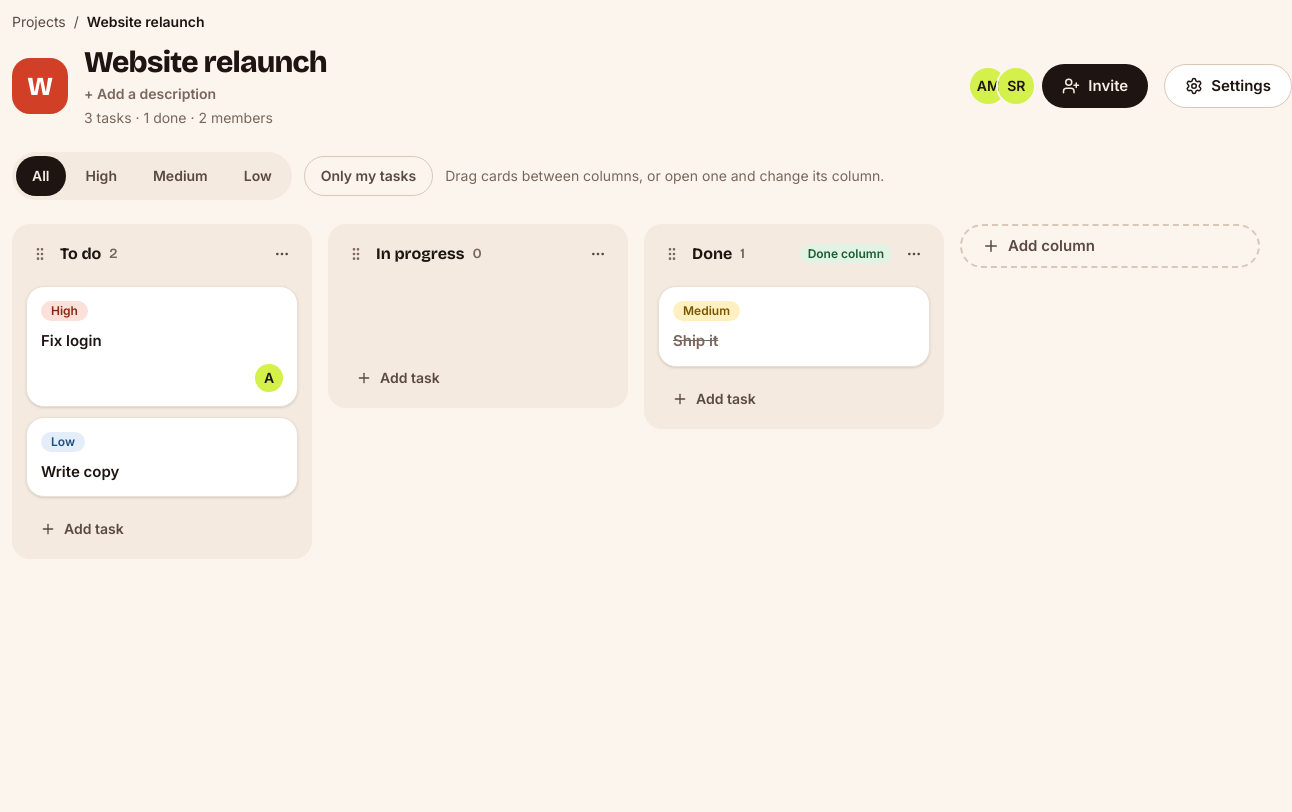
Test case: BoardContent › lets the owner add a description inline, saving on Enter
Step 1. Click the button "+ Add a description" → (150, 94), box [84,84,216,104]
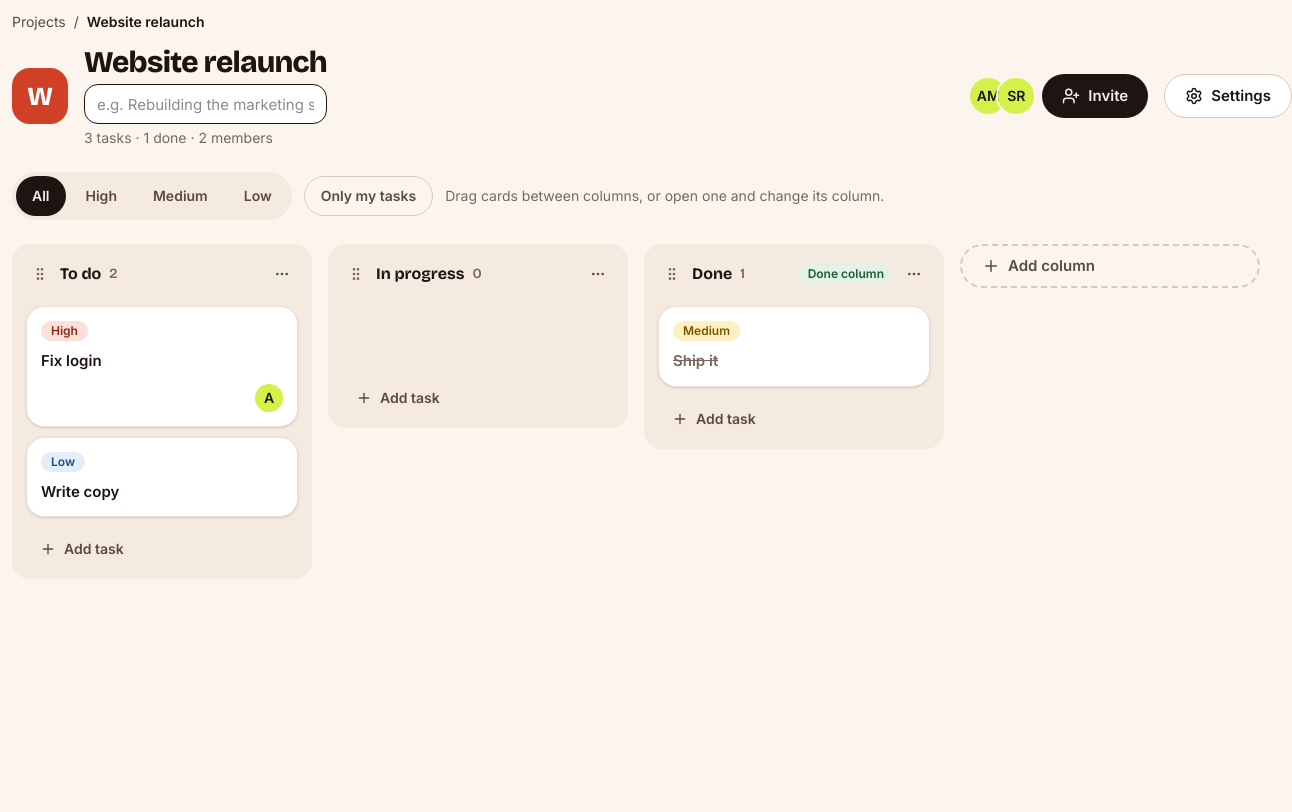
Step 2. Type "New one" into the field named "Project description" → (205, 104), box [84,84,327,124]
Then press Enter
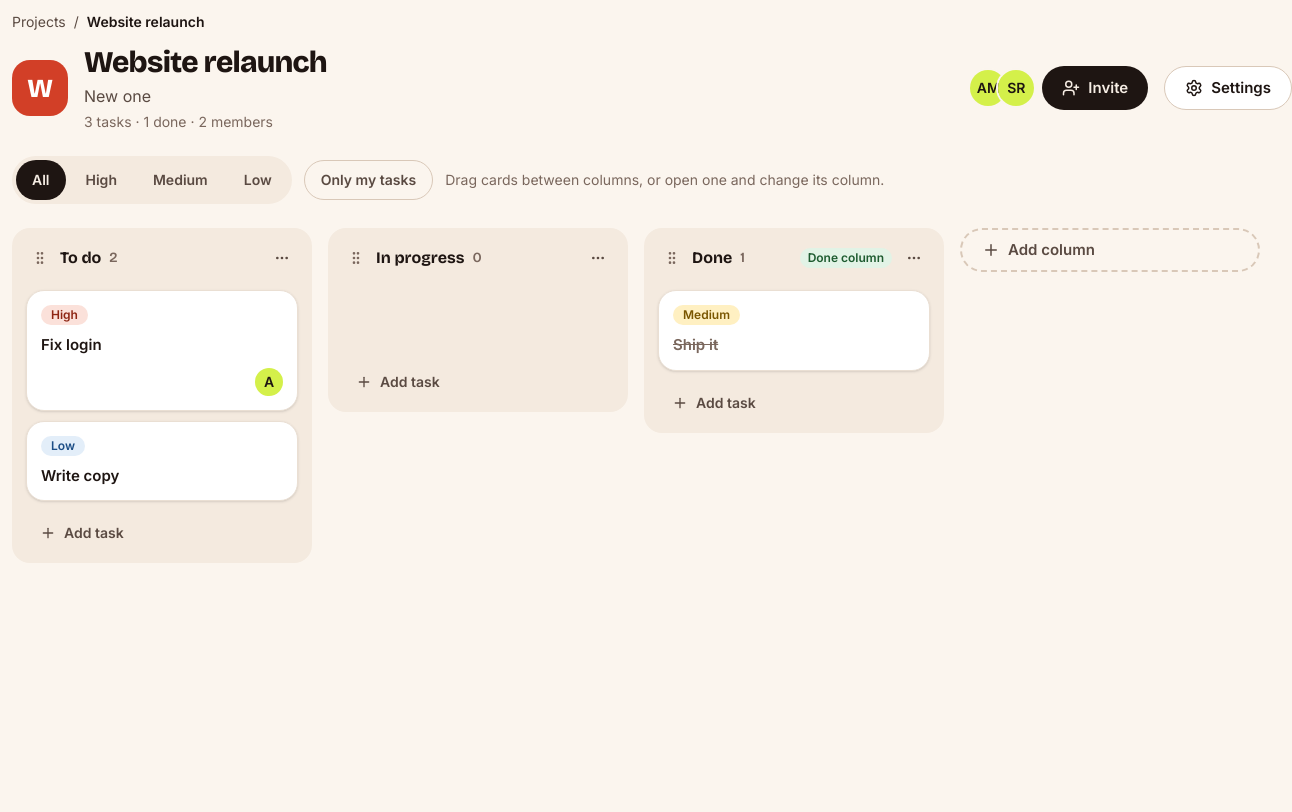
Check: the text "New one" is shown, box [84,86,151,106]
